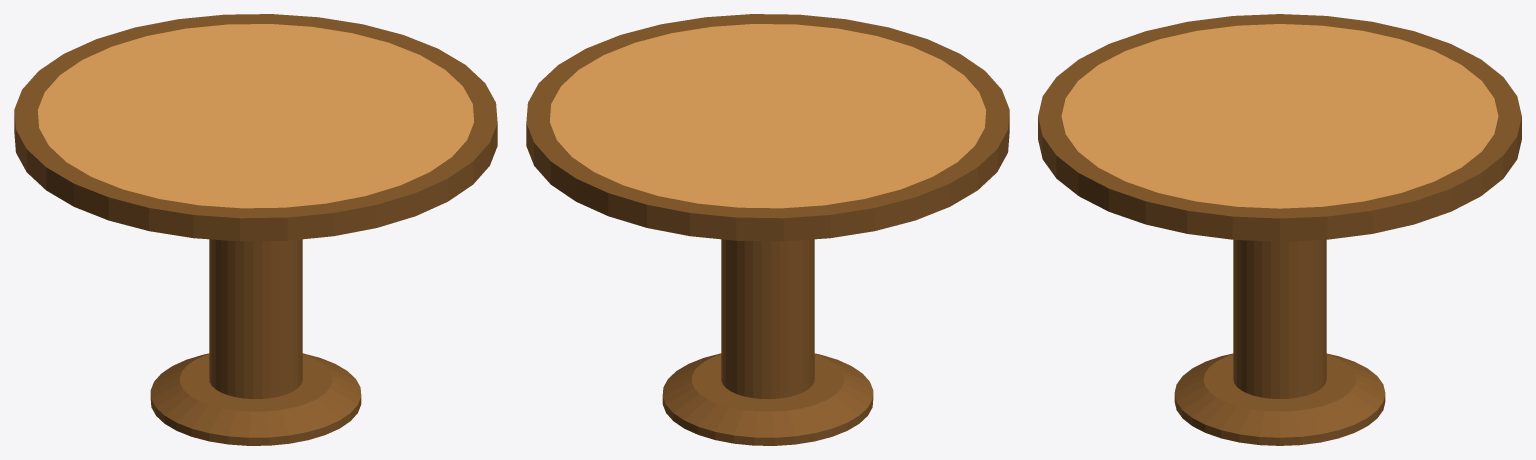
The model's file is roundtable.fbx.
3 views of the same model, side by side, from view 1: azimuth 30°, elevation 25°; view 2: azimuth 150°, elevation 25°; view 3: azimuth 270°, elevation 25° (orthographic).
Parts seen in each view (by area): view 1: Cylinder.010; view 2: Cylinder.010; view 3: Cylinder.010.
Boxes of the visible parts, x1,y1,x2,y2 form: Cylinder.010: [14, 14, 497, 445]; Cylinder.010: [526, 14, 1009, 445]; Cylinder.010: [1038, 14, 1521, 445].
Bounding box in the file's own units: 3181 × 2068 × 3181.
